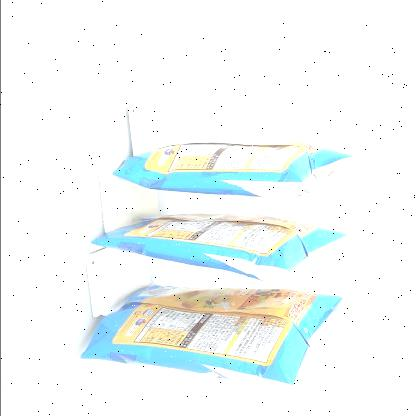Others: (59, 102, 377, 410)
